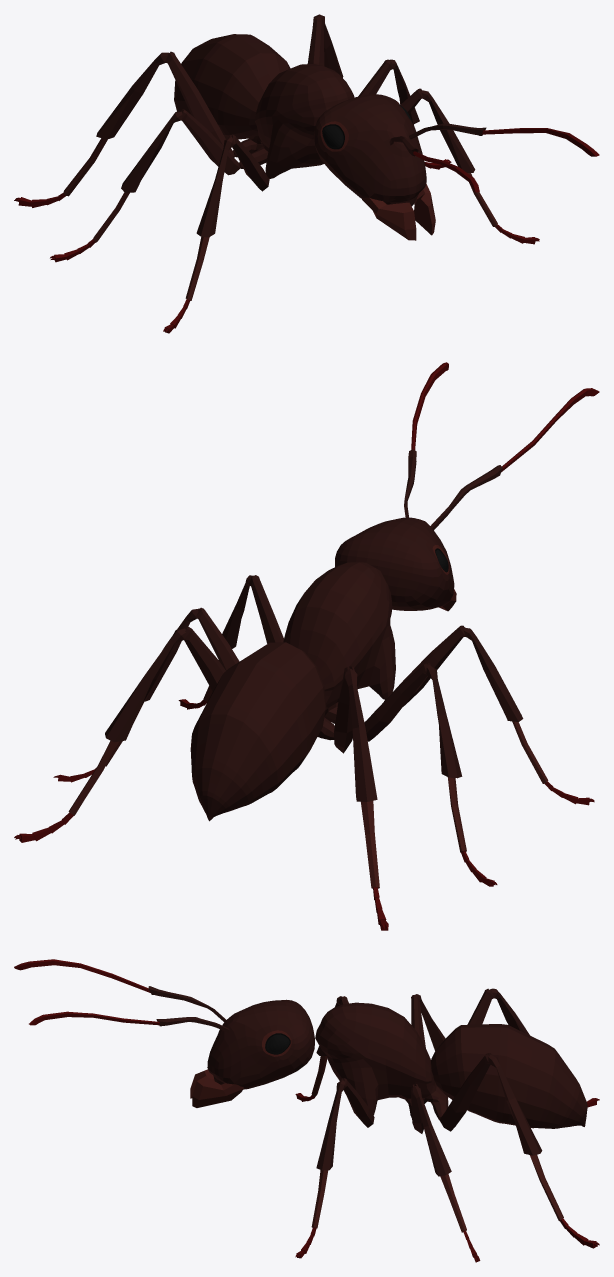
File: ant.fbx
3 views of the same model, one above another, from view 1: azimuth 30°, elevation 25°; view 2: azimuth 150°, elevation 25°; view 3: azimuth 270°, elevation 25° (orthographic). The views are drawn at different scales.
Parts seen in each view (by area): view 1: ant, leg2a, leg1a, leg0a, antena, leg0b, leg2b, leg1b; view 2: ant, leg2a, leg2b, leg1a, leg0a, antena, leg0b, leg1b; view 3: ant, leg2b, antena, leg0b, leg1b, leg2a, leg1a, leg0a.
Boxes of the visible parts, x1,y1,x2,y2 form: ant: (174, 34, 435, 240); leg2a: (14, 51, 235, 207); leg1a: (50, 109, 240, 262); leg0a: (163, 134, 269, 333); antena: (389, 123, 599, 192); leg0b: (400, 88, 539, 244); leg2b: (307, 14, 343, 77); leg1b: (358, 59, 451, 169); ant: (190, 517, 456, 821); leg2a: (334, 666, 388, 930); leg2b: (14, 626, 225, 842); leg1a: (364, 663, 497, 886); leg0a: (384, 625, 594, 805); antena: (404, 362, 599, 530); leg0b: (178, 575, 283, 709); leg1b: (53, 607, 239, 782); ant: (190, 999, 587, 1128); leg2b: (439, 1053, 599, 1248); antena: (14, 959, 229, 1032); leg0b: (295, 1078, 374, 1258); leg1b: (411, 1084, 480, 1262); leg2a: (467, 988, 599, 1107); leg1a: (411, 994, 445, 1050); leg0a: (295, 996, 348, 1101).
Bounding box in the file's own units: 226 × 124 × 320.
